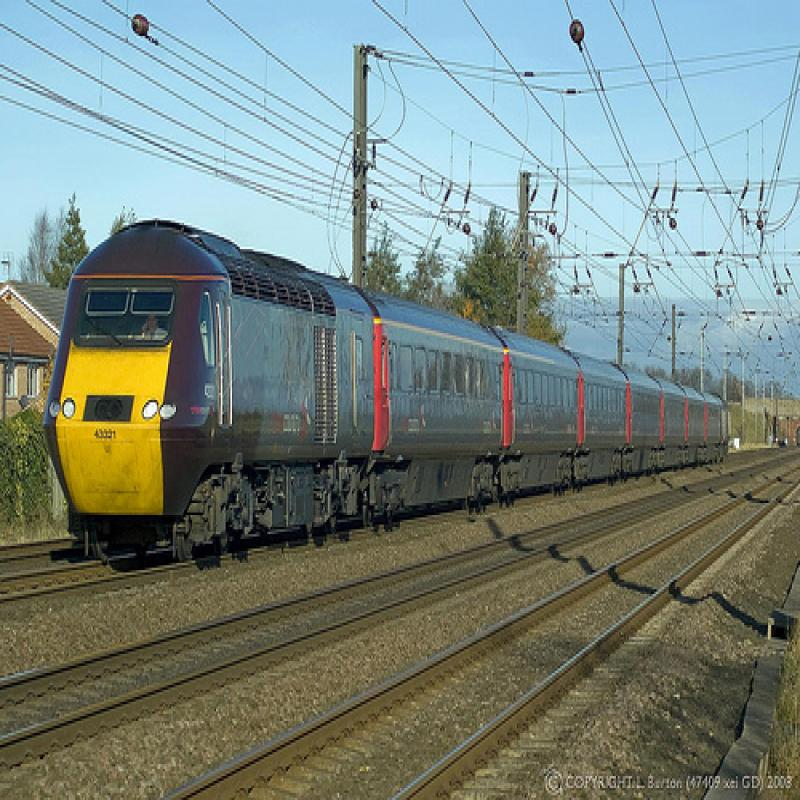train: (41, 219, 727, 566)
